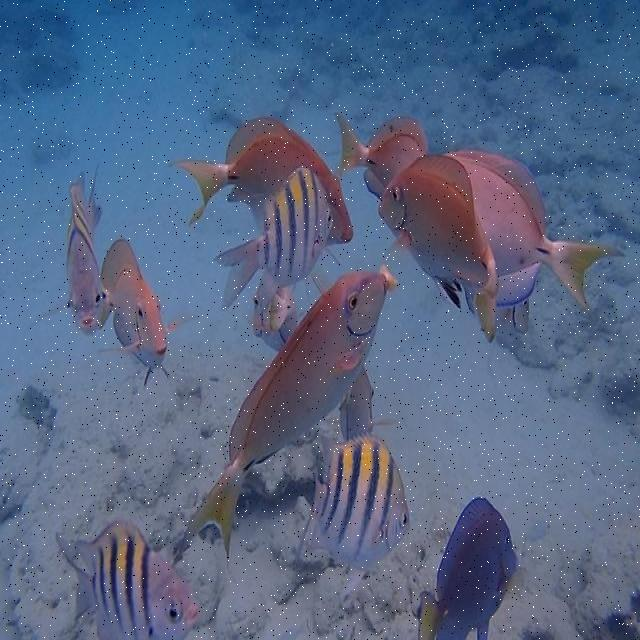fish: (178, 270, 394, 568), (445, 149, 626, 311), (170, 115, 354, 247), (380, 154, 499, 345), (300, 433, 415, 598), (214, 168, 344, 310), (54, 520, 197, 639), (99, 238, 197, 390), (417, 496, 518, 639), (27, 161, 105, 338), (334, 114, 429, 198)
